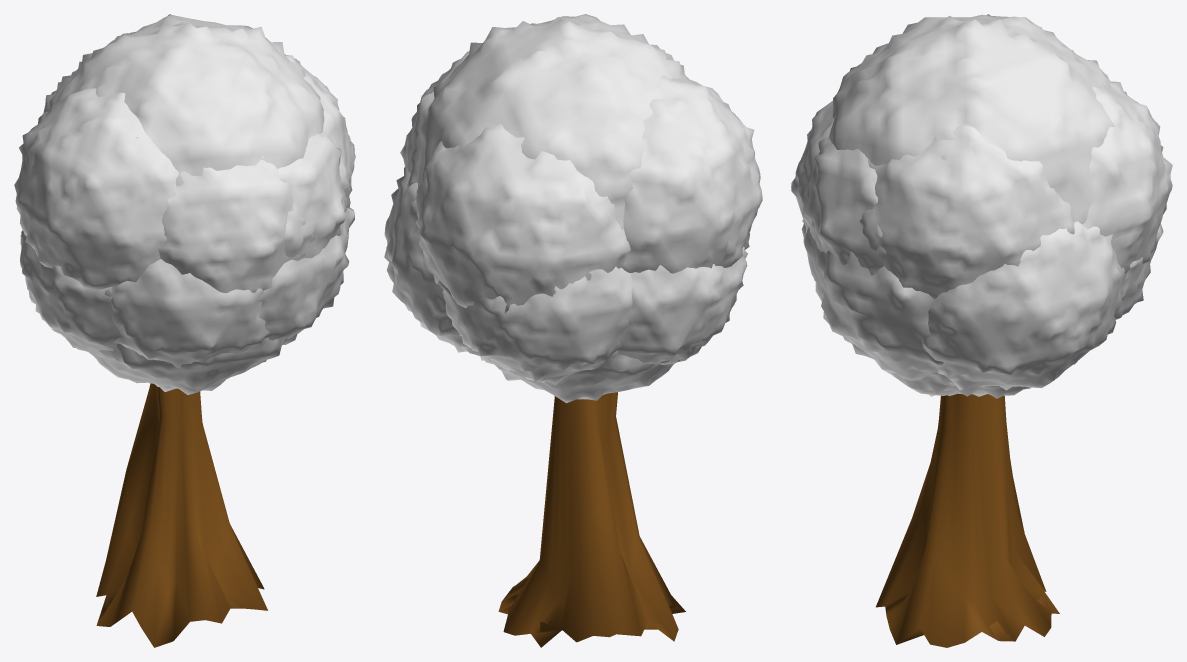
The model's file is Shrub0.fbx.
3 renders of one model, left to right at view 1: azimuth 30°, elevation 25°; view 2: azimuth 150°, elevation 25°; view 3: azimuth 270°, elevation 25°, orthographic. The views are drawn at different scales.
Visible parts, largest first — view 1: Icosphere.007, Cylinder, Icosphere.012, Icosphere.008, Icosphere.006, Icosphere.009, Icosphere.002, Icosphere.003, Icosphere, Icosphere.010; view 2: Icosphere.007, Icosphere.011, Cylinder, Icosphere.012, Icosphere.001, Icosphere.003, Icosphere.004, Icosphere, Icosphere.010; view 3: Icosphere.007, Cylinder, Icosphere.010, Icosphere.004, Icosphere.011, Icosphere.002, Icosphere.009, Icosphere, Icosphere.008, Icosphere.001.
Part boxes in pixels (left/top/right/bottom): Icosphere.007: left=48, top=14, right=324, bottom=186; Cylinder: left=96, top=383, right=267, bottom=647; Icosphere.012: left=14, top=87, right=178, bottom=289; Icosphere.008: left=157, top=160, right=315, bottom=294; Icosphere.006: left=104, top=259, right=269, bottom=368; Icosphere.009: left=262, top=135, right=349, bottom=260; Icosphere.002: left=257, top=207, right=354, bottom=344; Icosphere.003: left=20, top=230, right=120, bottom=357; Icosphere: left=88, top=337, right=289, bottom=394; Icosphere.010: left=286, top=55, right=355, bottom=208; Icosphere.007: left=418, top=14, right=689, bottom=229; Icosphere.011: left=415, top=123, right=630, bottom=313; Cylinder: left=498, top=392, right=685, bottom=647; Icosphere.012: left=622, top=75, right=762, bottom=273; Icosphere.001: left=437, top=266, right=632, bottom=384; Icosphere.003: left=617, top=246, right=747, bottom=372; Icosphere.004: left=384, top=166, right=481, bottom=356; Icosphere: left=480, top=351, right=680, bottom=403; Icosphere.010: left=400, top=51, right=469, bottom=187; Icosphere.007: left=829, top=14, right=1114, bottom=223; Cylinder: left=876, top=393, right=1059, bottom=647; Icosphere.010: left=859, top=125, right=1074, bottom=299; Icosphere.004: left=921, top=221, right=1127, bottom=390; Icosphere.011: left=1081, top=74, right=1172, bottom=273; Icosphere.002: left=803, top=227, right=943, bottom=380; Icosphere.009: left=797, top=115, right=886, bottom=275; Icosphere: left=843, top=336, right=1030, bottom=398; Icosphere.008: left=791, top=101, right=834, bottom=236; Icosphere.001: left=1114, top=223, right=1163, bottom=319.
Size of the model in its own units: 132 by 235 by 133.
